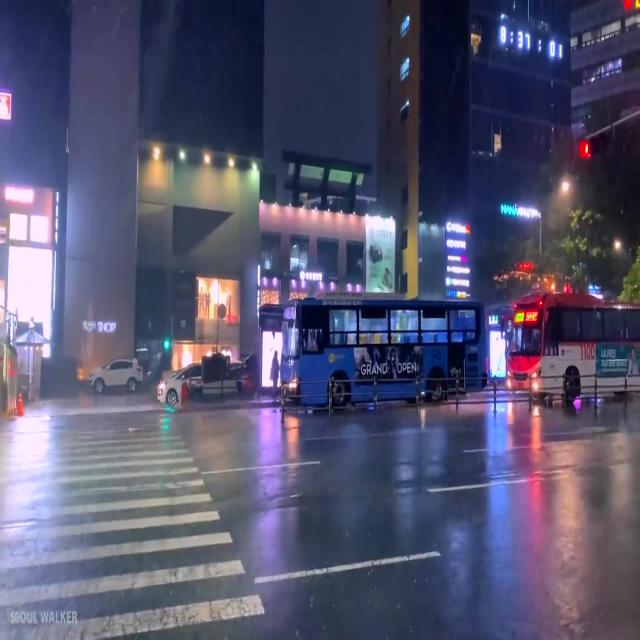Car: (89, 359, 141, 386)
